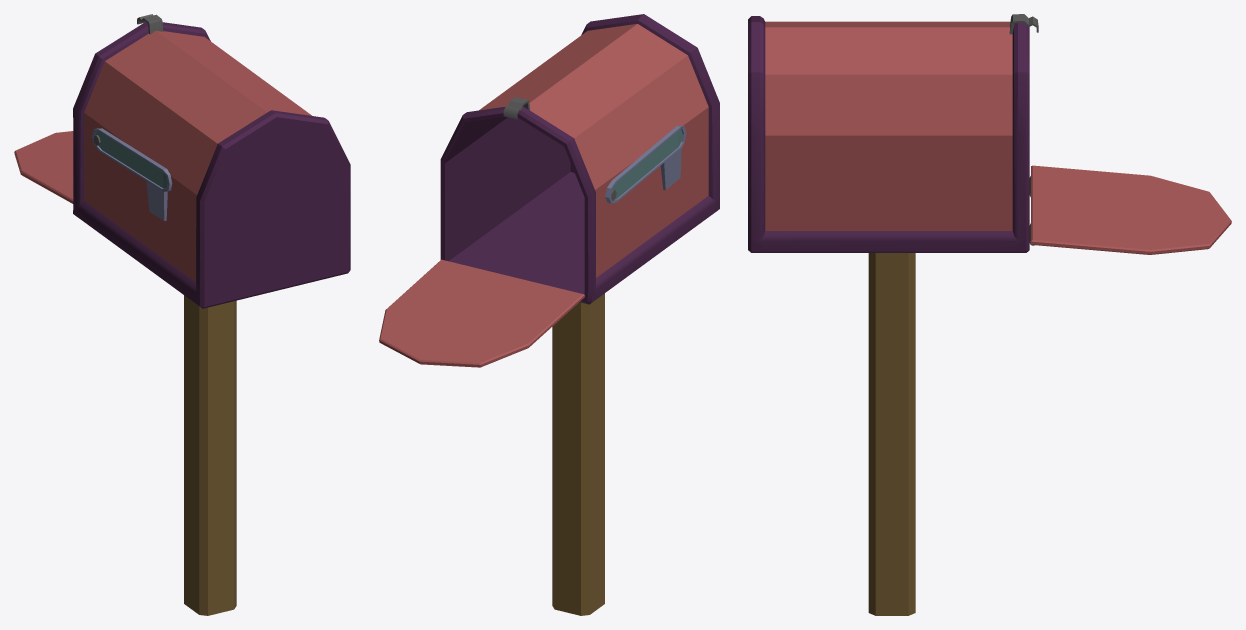
The model's file is Buzon_abierto.fbx.
3 views of the same model, side by side, from view 1: azimuth 30°, elevation 25°; view 2: azimuth 150°, elevation 25°; view 3: azimuth 270°, elevation 25° (orthographic). The views are drawn at different scales.
Visible parts, largest first — view 1: polySurface15; view 2: polySurface15; view 3: polySurface15.
Part boxes in pixels (<box>): polySurface15: <box>14,14,350,615</box>; polySurface15: <box>379,14,719,615</box>; polySurface15: <box>748,14,1231,615</box>.
Bounding box in the file's own units: 63.3 × 219 × 163.
